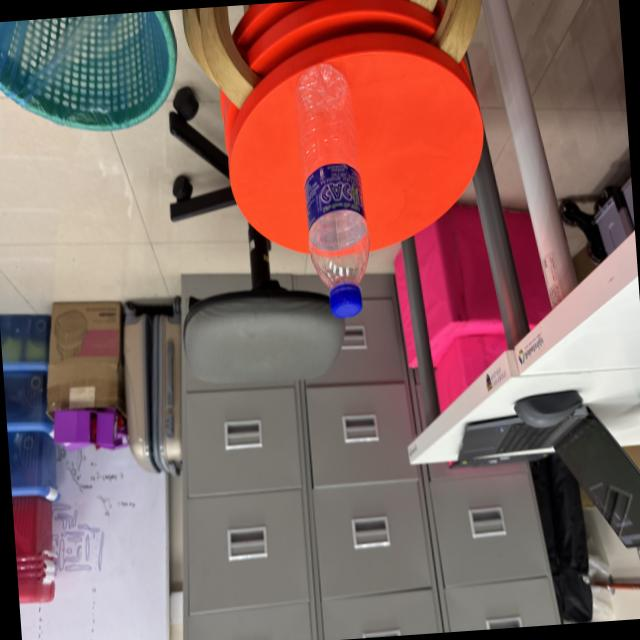plastic_bottle: (285, 55, 378, 325)
